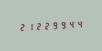four: (73, 18, 80, 29), (65, 19, 72, 29)
nine: (57, 19, 64, 30), (49, 20, 56, 30)
one: (25, 21, 32, 31)
two: (17, 21, 24, 32), (33, 20, 40, 31), (41, 20, 48, 31)
